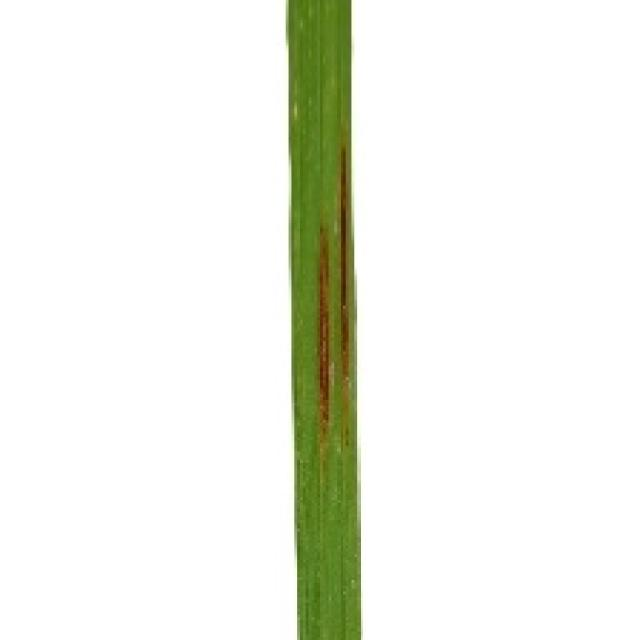Unhealthy: (337, 160, 350, 393), (314, 234, 326, 440)
